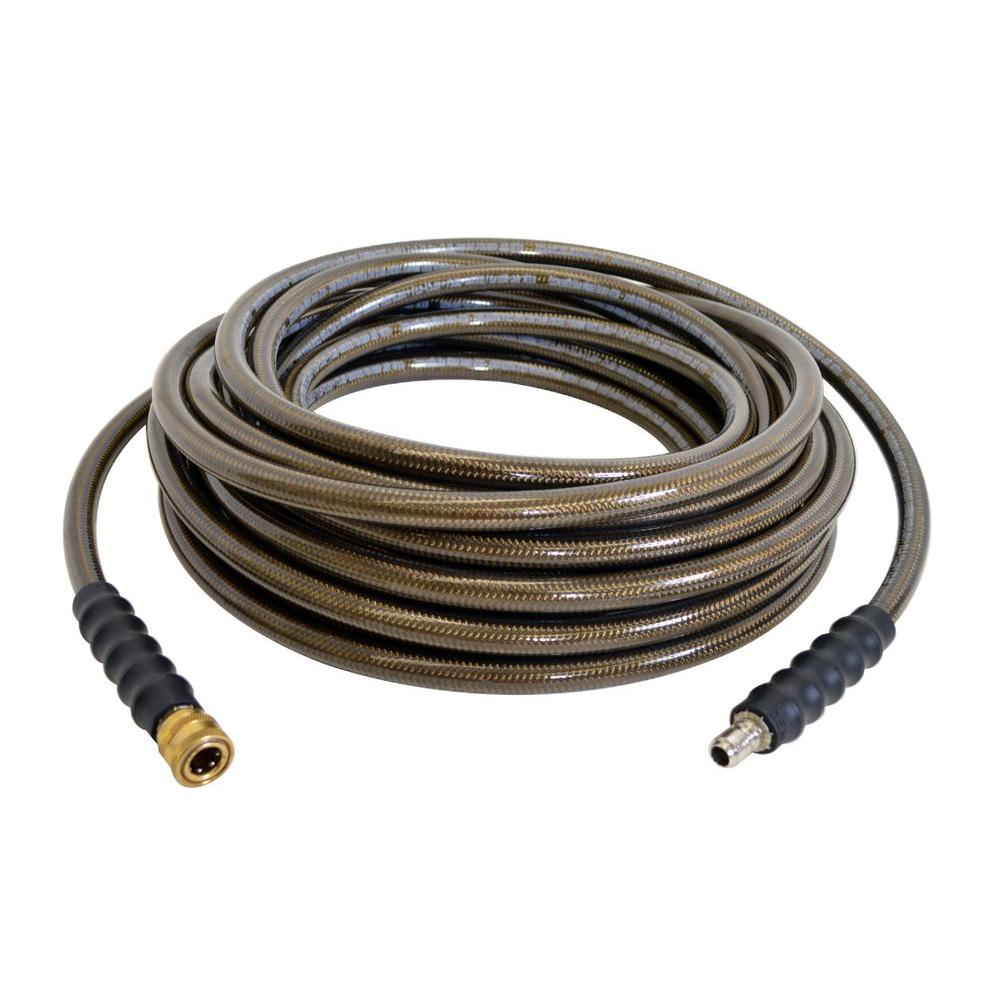Nonrec_Tangler: (23, 222, 964, 818)
